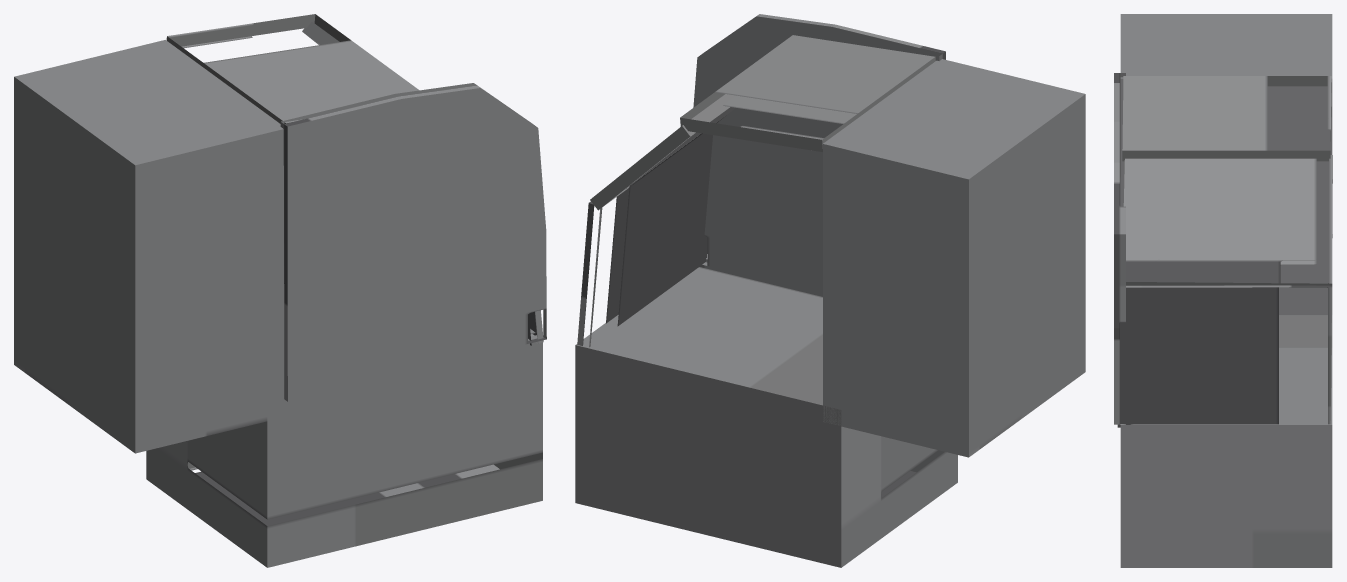
3 views of the same model, side by side, from view 1: azimuth 30°, elevation 25°; view 2: azimuth 150°, elevation 25°; view 3: azimuth 270°, elevation 25° (orthographic). The views are drawn at different scales.
Bounding box in the file's own units: 0.6505 × 0.6707 × 0.3461.
